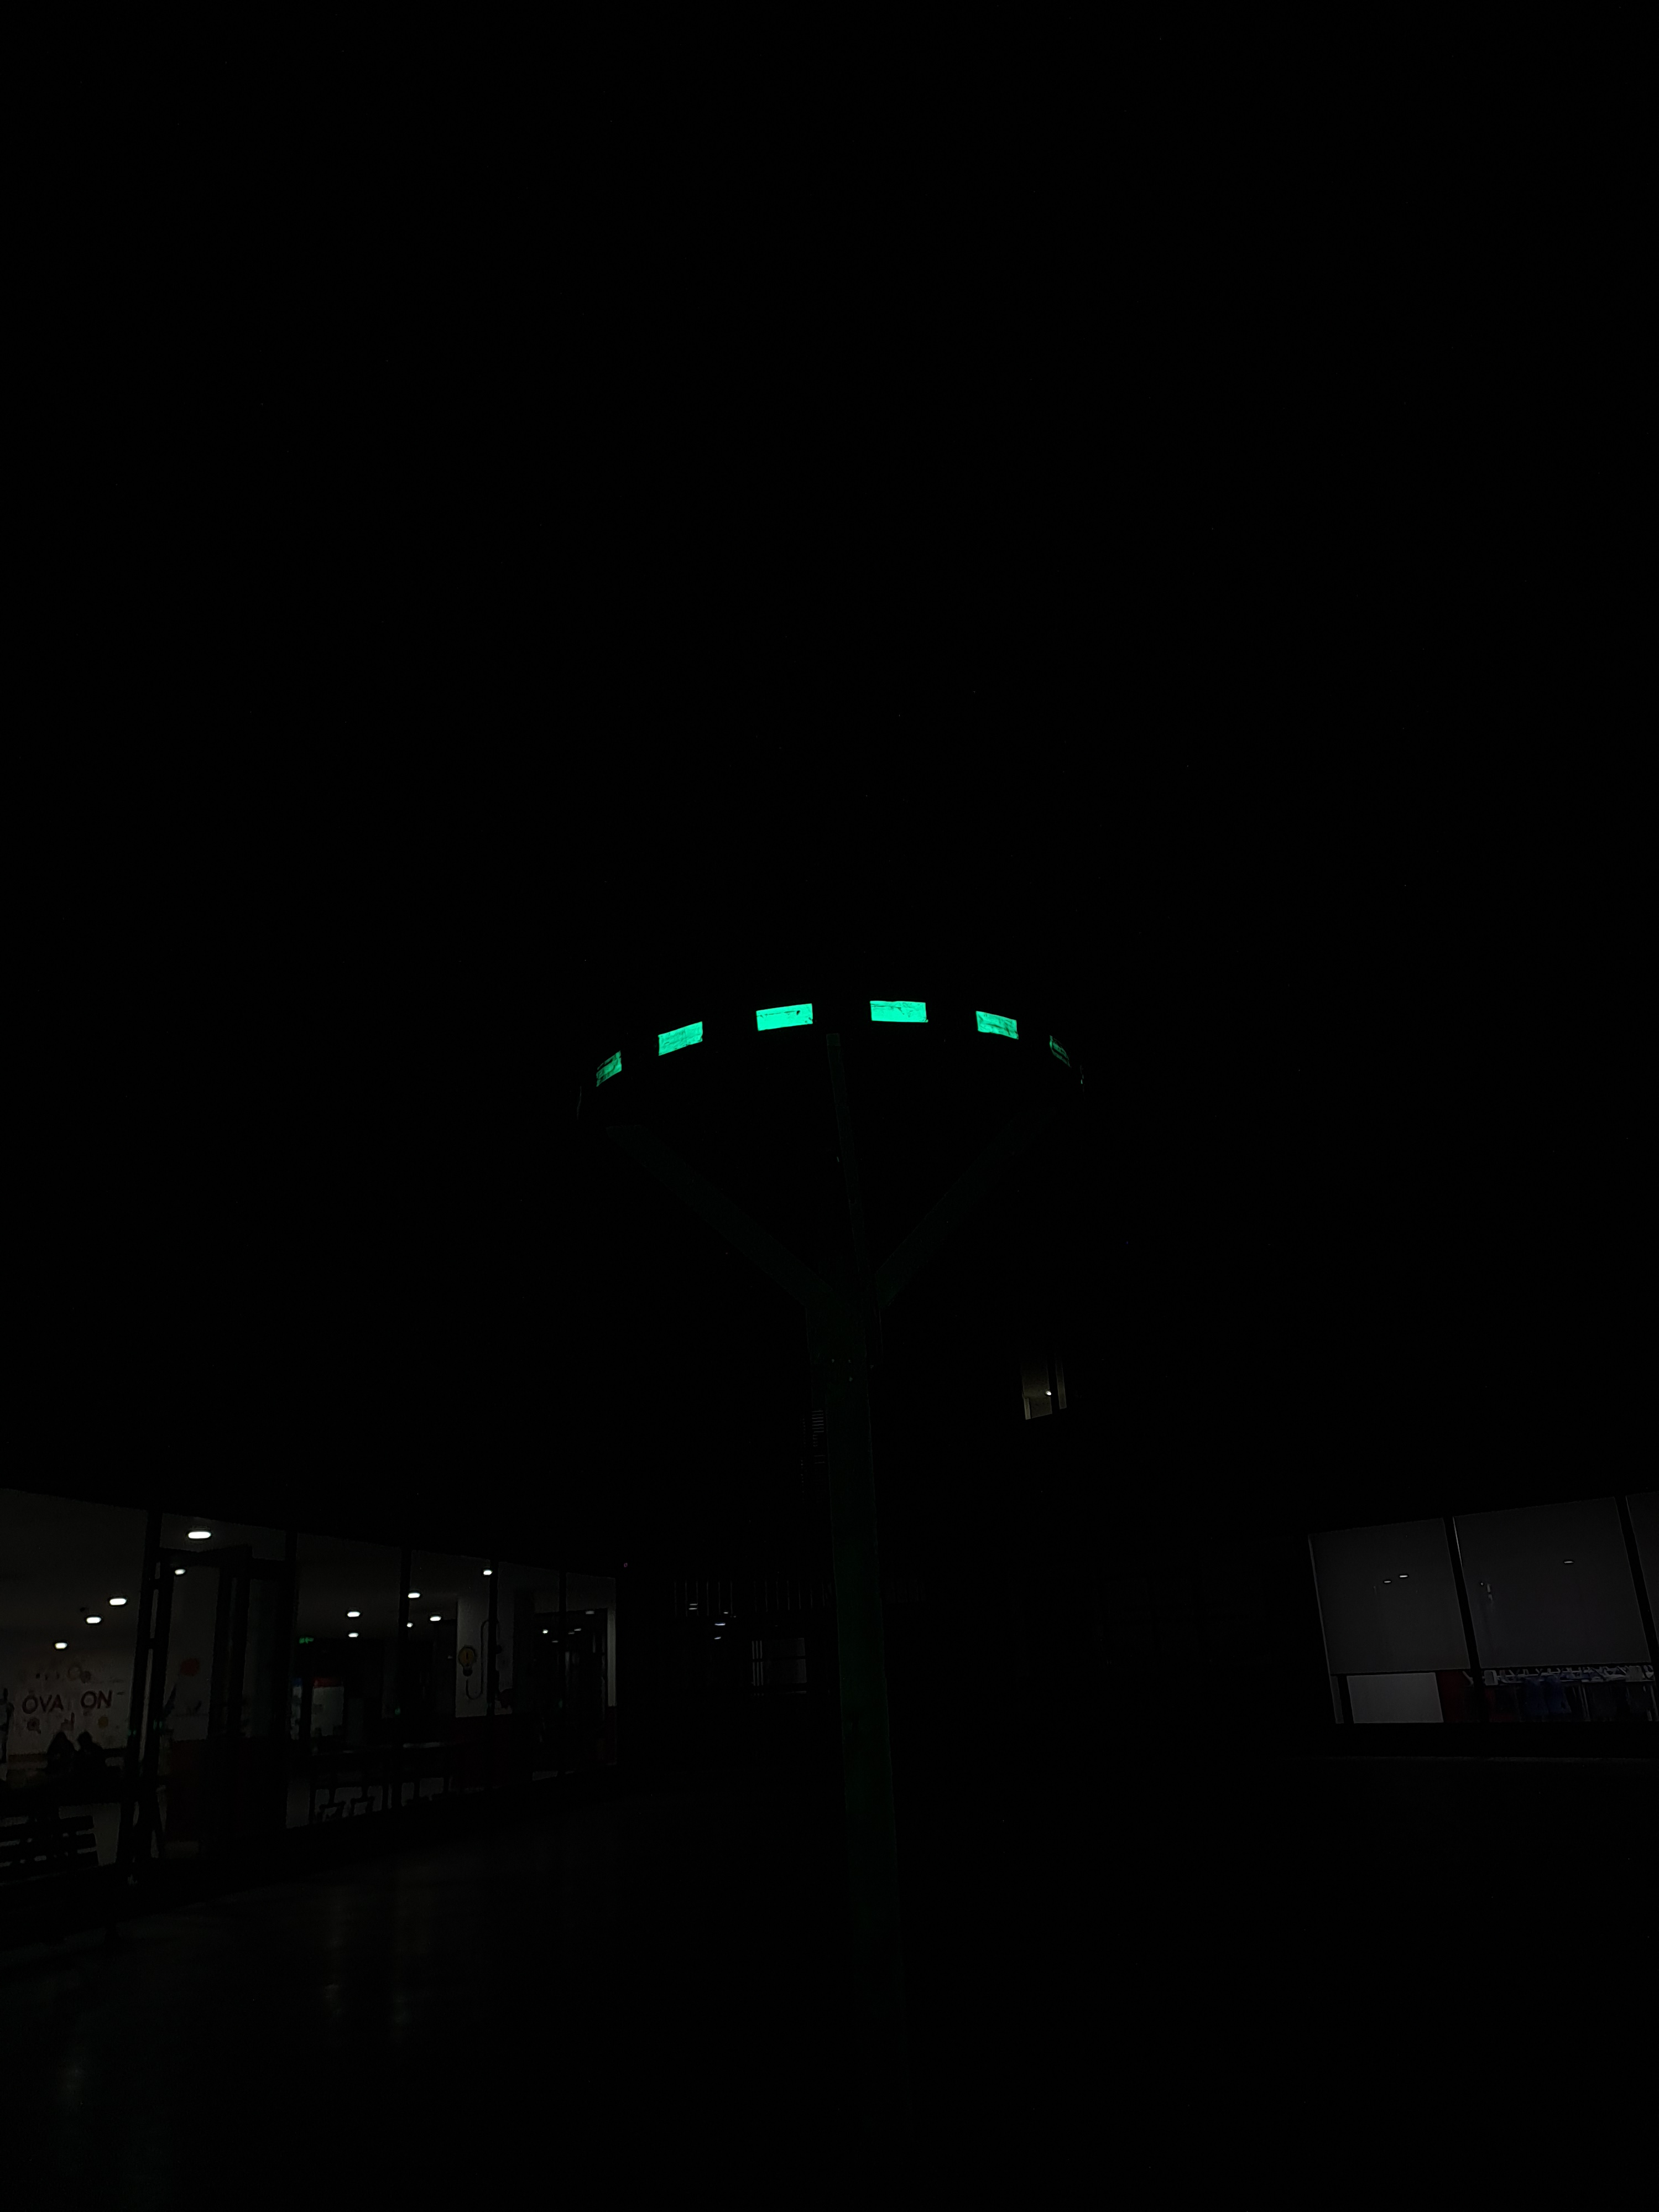hoop: (582, 995, 1025, 1096)
